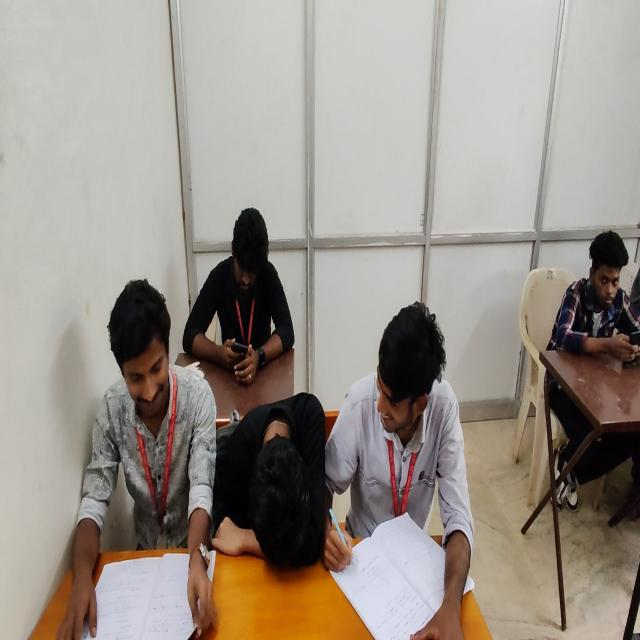reading: (50, 265, 219, 640)
sleeping: (210, 375, 333, 596)
turning: (319, 288, 480, 640)
using_mobile: (175, 195, 305, 392), (542, 220, 640, 373)
